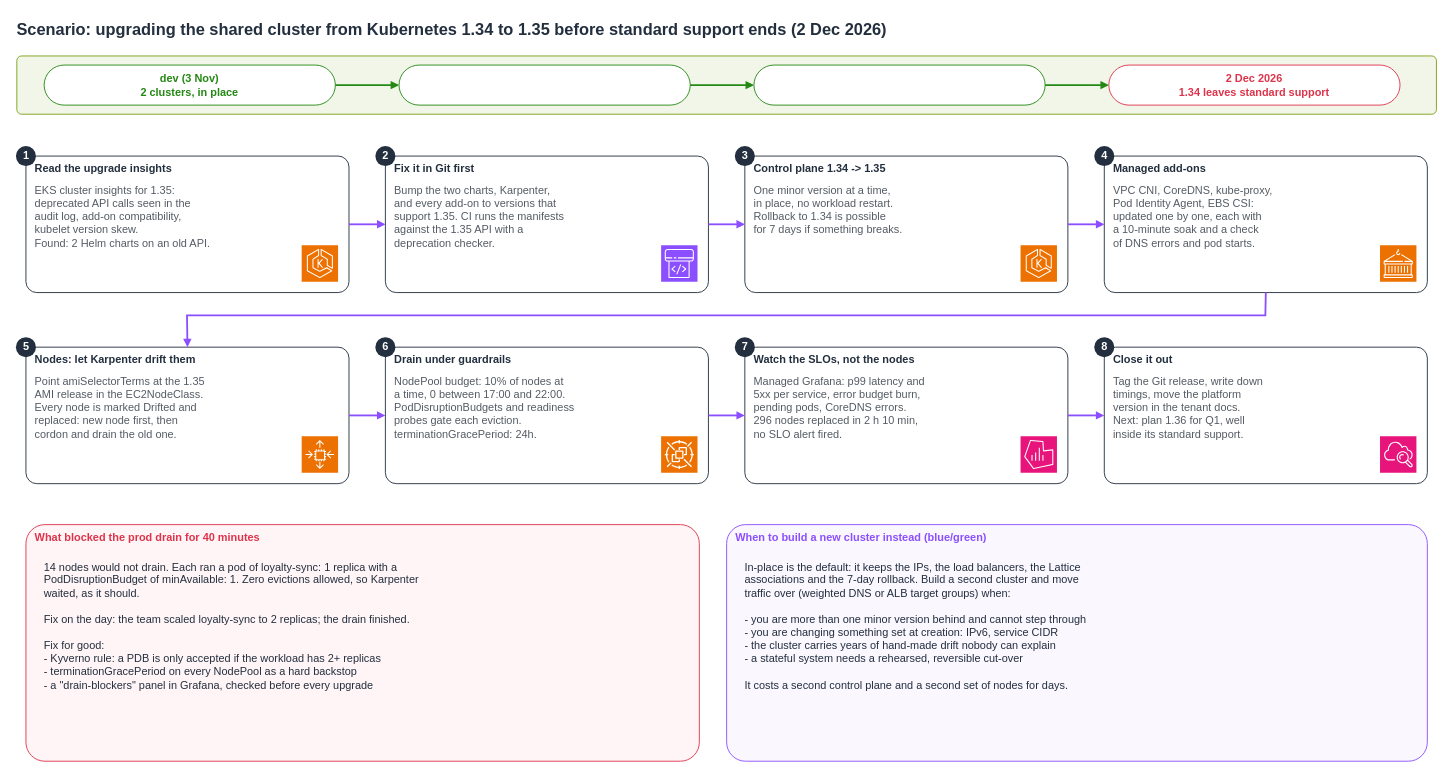
The diagram is 1452 pixels wide and 777 high, and some of its shapes have lost their labels. The centre of each missing label's shape, as x and y in pixels:
prod (17 Nov) Tuesday 06:00, quietest hour: point (899, 84)
staging (10 Nov) same steps, load test after: point (544, 84)
